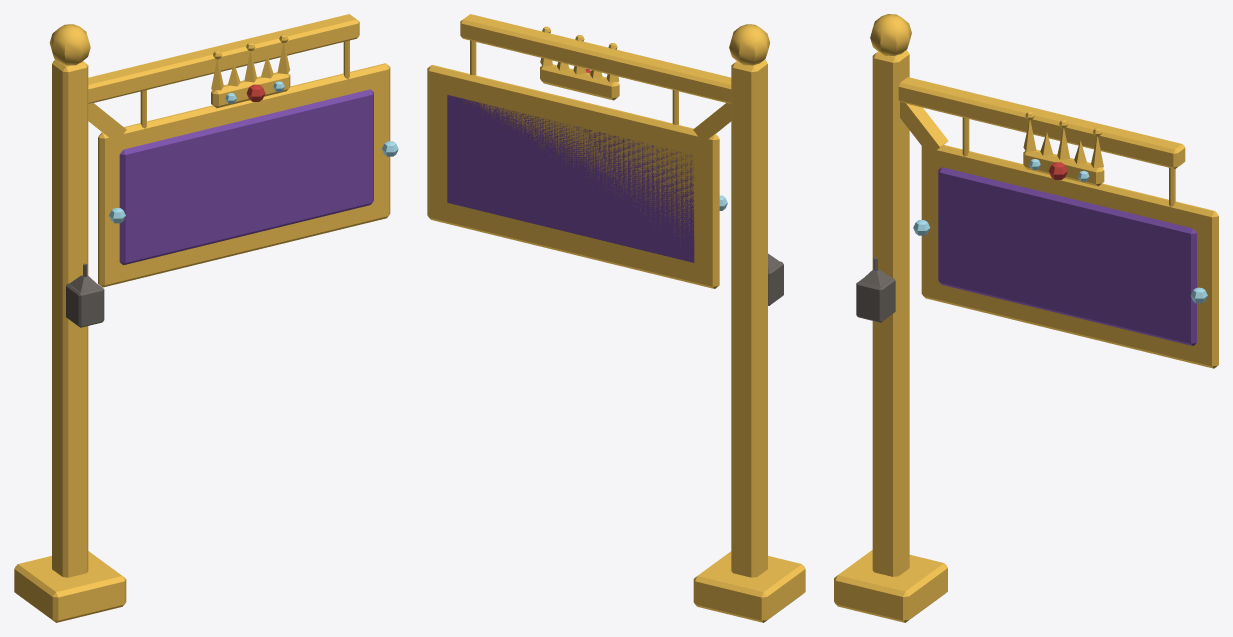
File: PR_Sign_5.fbx
3 renders of one model, left to right at view 1: azimuth 30°, elevation 25°; view 2: azimuth 150°, elevation 25°; view 3: azimuth 330°, elevation 25°, orthographic.
Parts seen in each view (by area): view 1: PR_Sign_5; view 2: PR_Sign_5; view 3: PR_Sign_5.
Part boxes in pixels (box(x1,y1,x2,y2)): PR_Sign_5: box(14, 14, 398, 622); PR_Sign_5: box(427, 14, 805, 622); PR_Sign_5: box(834, 14, 1218, 622).
Bounding box in the file's own units: 1.94 × 2.98 × 0.41.
Materials: 1 (1 with a texture image).
